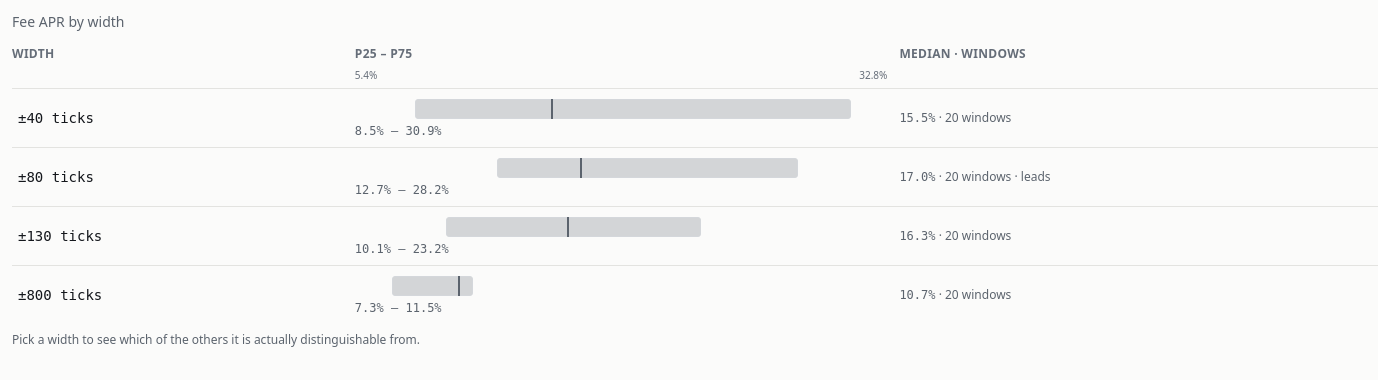
Test: selecting a width answers the question the table could not › deselects on a second press, so the verdict can be put down
The width and height of the screenshot is (1378, 380).
Click the button "±80 ticks" at [56, 177], box 12,163 -> 100,191
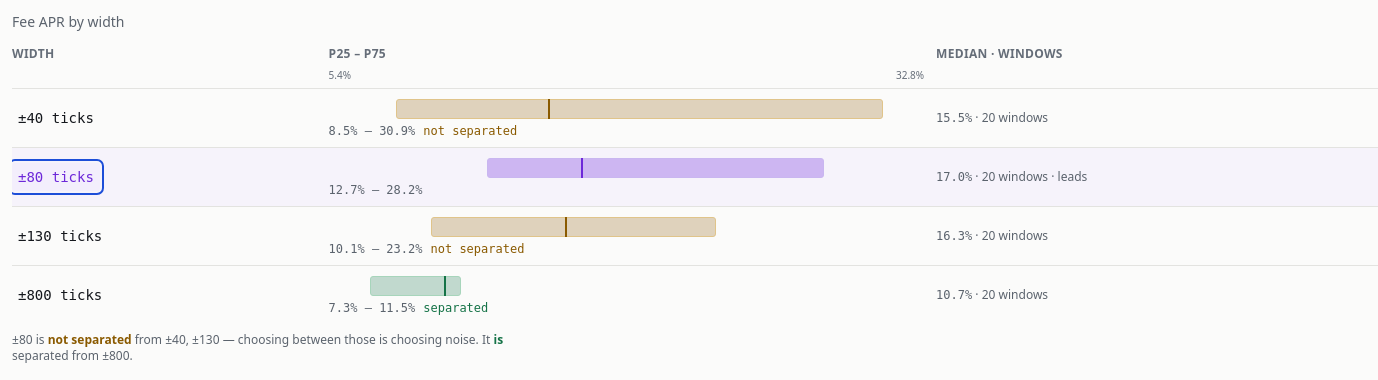
Now the button "±80 ticks" is pressed
Click the button "±80 ticks" at [56, 177], box 12,163 -> 100,191
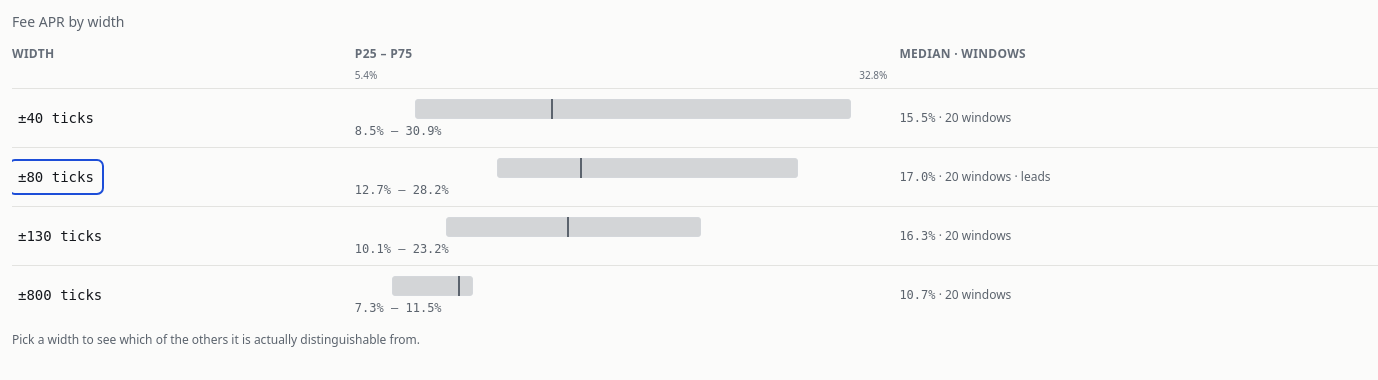
Now the text "not separated" is gone
